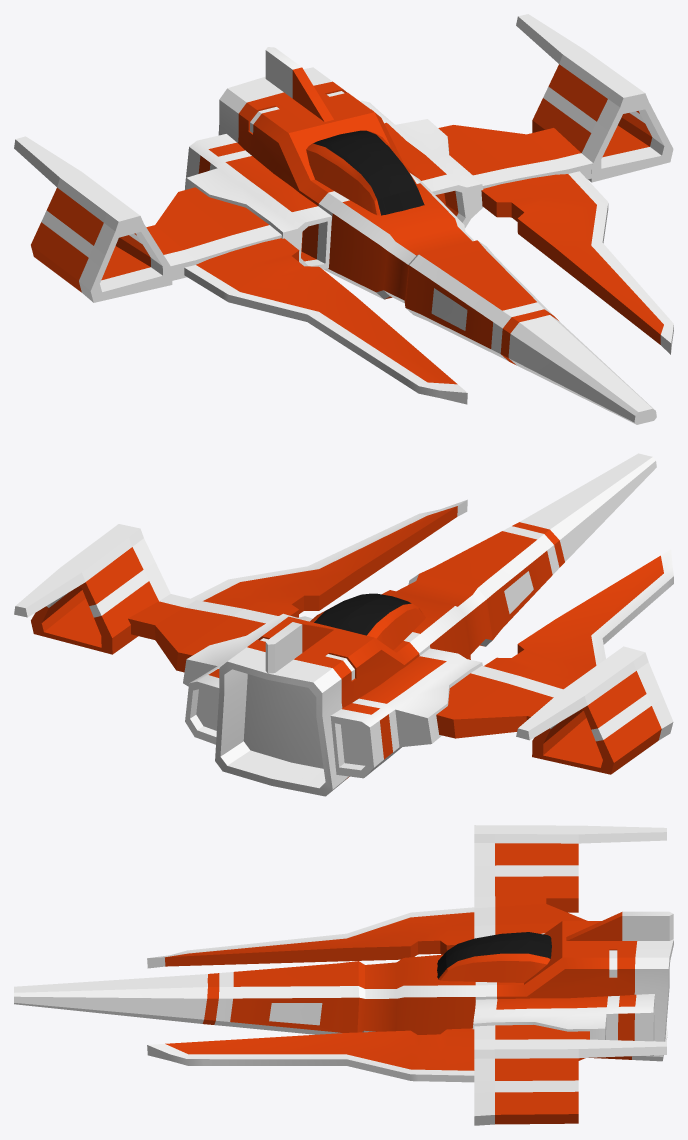
File: Ship_Strong.fbx
3 views of the same model, one above another, from view 1: azimuth 30°, elevation 25°; view 2: azimuth 150°, elevation 25°; view 3: azimuth 270°, elevation 25° (orthographic). The views are drawn at different scales.
Visible parts, largest first — view 1: Spaceship_RaeTheRedPanda; view 2: Spaceship_RaeTheRedPanda; view 3: Spaceship_RaeTheRedPanda.
Part boxes in pixels (bbox=[...]): Spaceship_RaeTheRedPanda: bbox=[14, 14, 673, 424]; Spaceship_RaeTheRedPanda: bbox=[14, 453, 673, 796]; Spaceship_RaeTheRedPanda: bbox=[14, 825, 673, 1125].
Bounding box in the file's own units: 995 × 235 × 1117.
